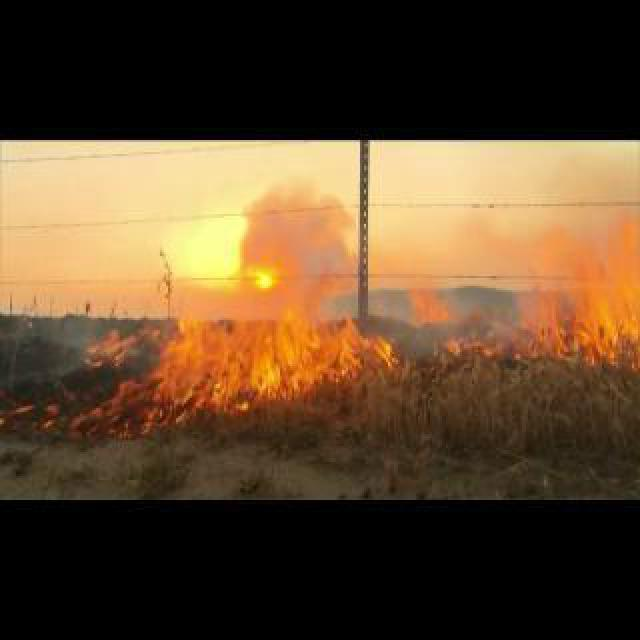Fire: (90, 286, 370, 426), (514, 216, 638, 356), (444, 332, 498, 356), (414, 286, 450, 322)
